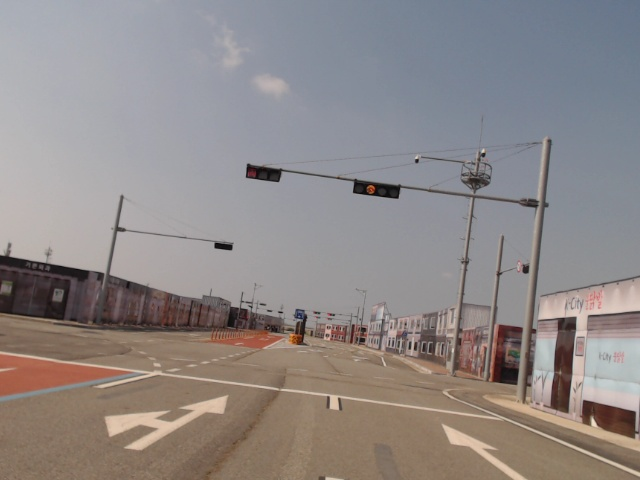orange_4: (353, 178, 401, 200)
